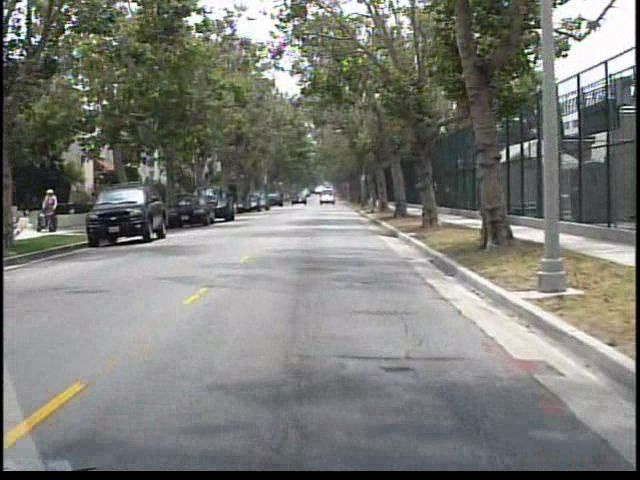person: (42, 188, 64, 234)
